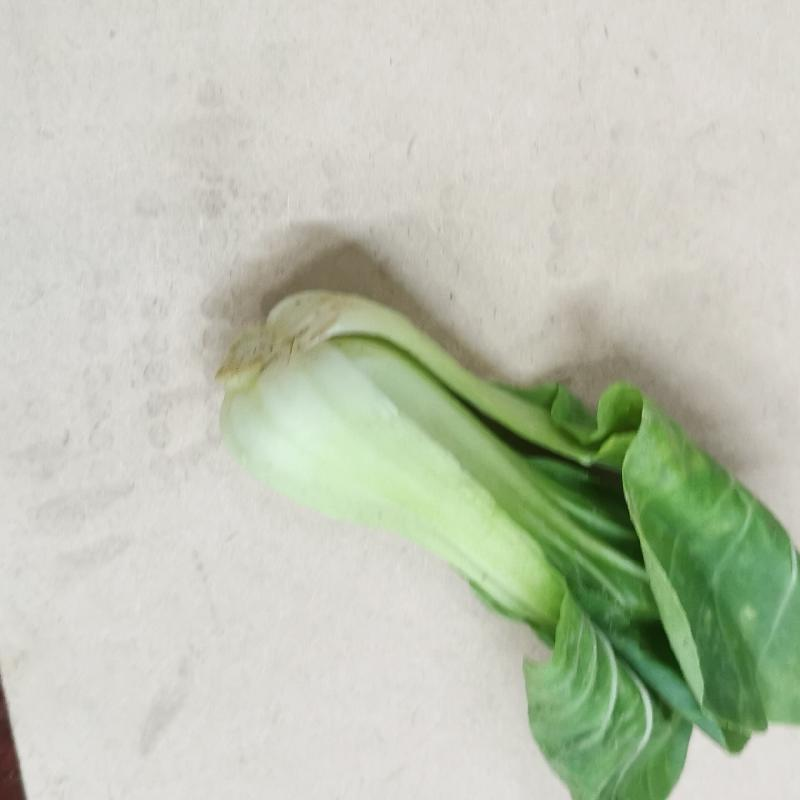green vegatable: (217, 288, 800, 800)
